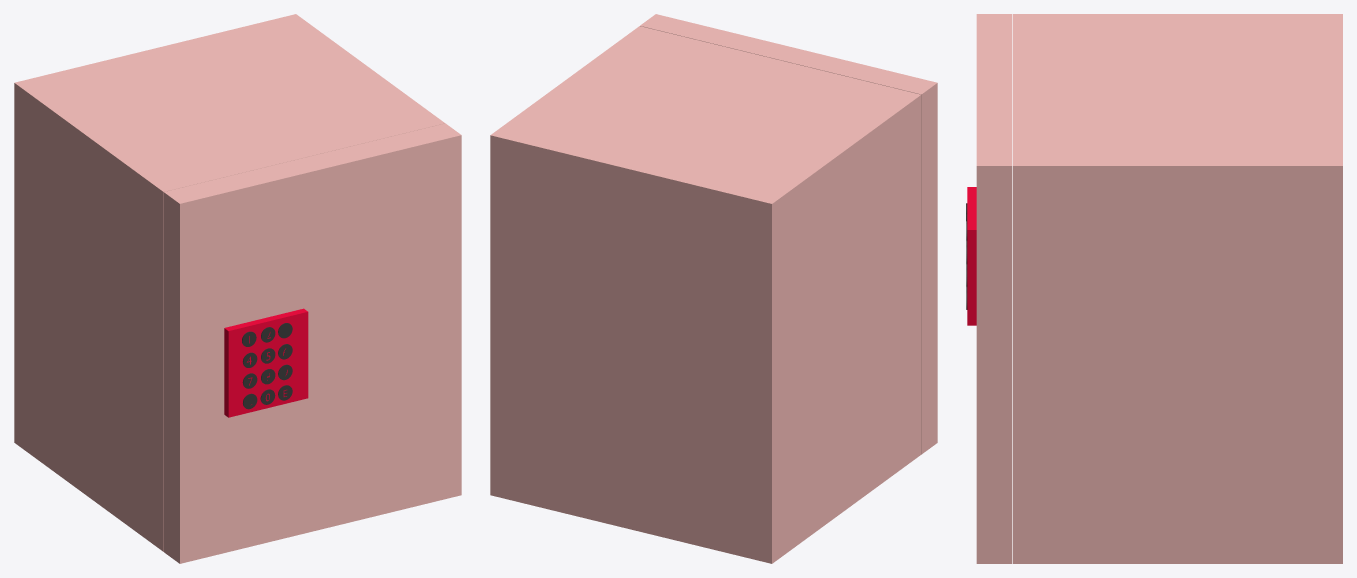
Rendered from case2.fbx.
3 renders of one model, left to right at view 1: azimuth 30°, elevation 25°; view 2: azimuth 150°, elevation 25°; view 3: azimuth 270°, elevation 25°, orthographic. The views are drawn at different scales.
Visible parts, largest first — view 1: Cube.001, Cube; view 2: Cube, Cube.001; view 3: Cube, Cube.001.
Boxes of the visible parts, box(x1,y1,x2,y2) form: Cube.001: box(164, 123, 461, 563); Cube: box(14, 14, 444, 551); Cube: box(490, 26, 921, 563); Cube.001: box(640, 14, 937, 454); Cube: box(1013, 14, 1342, 563); Cube.001: box(966, 14, 1012, 563).
Size of the model in its own units: 185 by 225 by 193.
